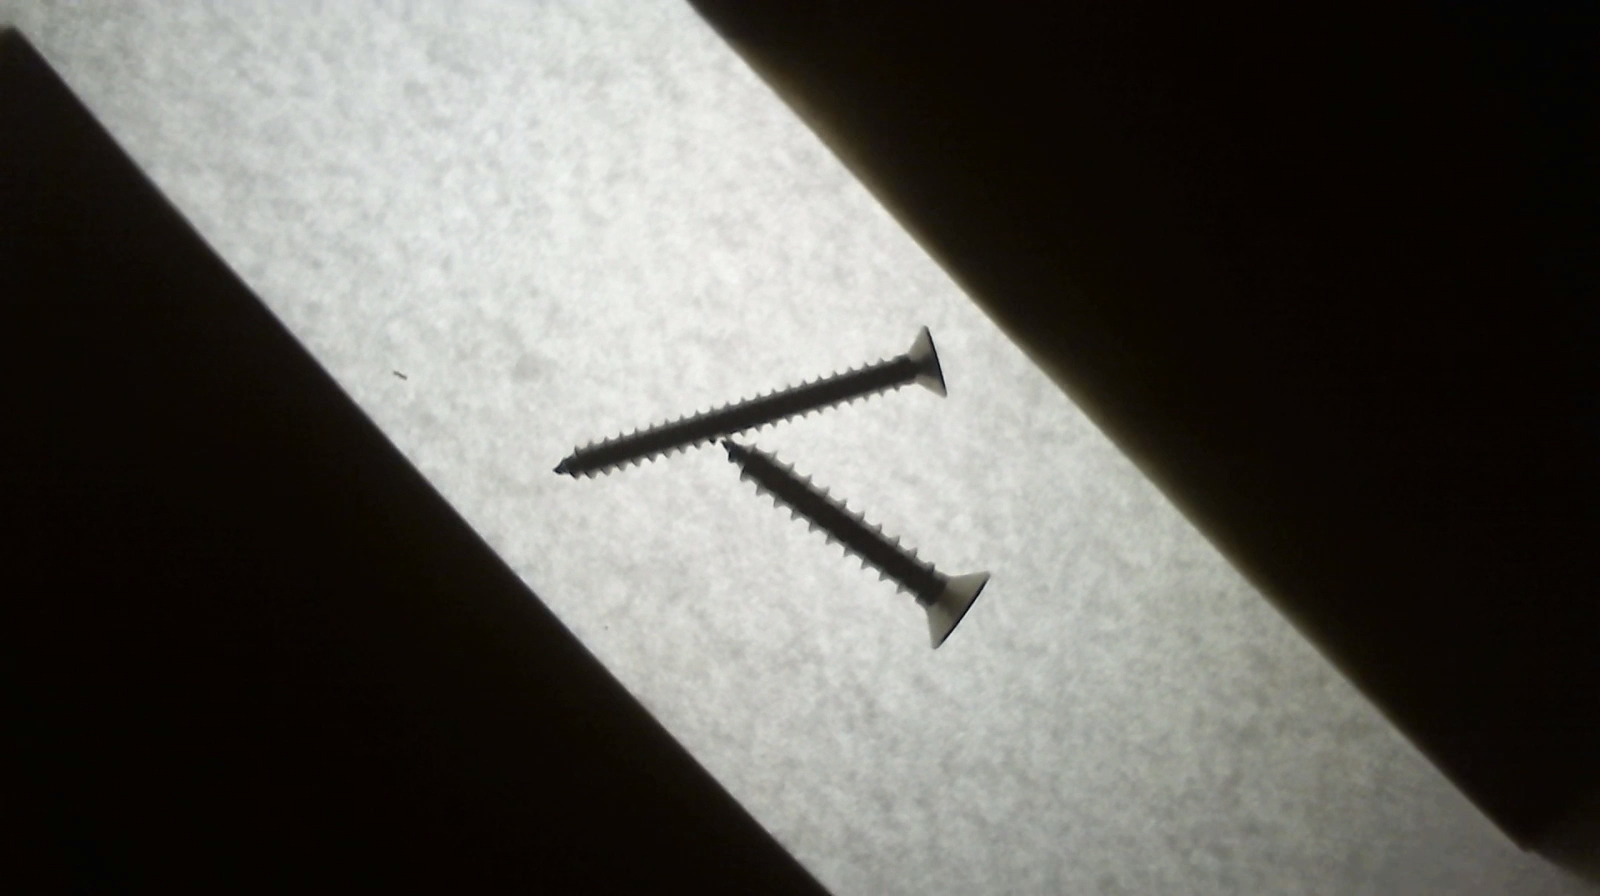S001: (721, 440, 993, 650)
S002: (556, 324, 946, 480)
